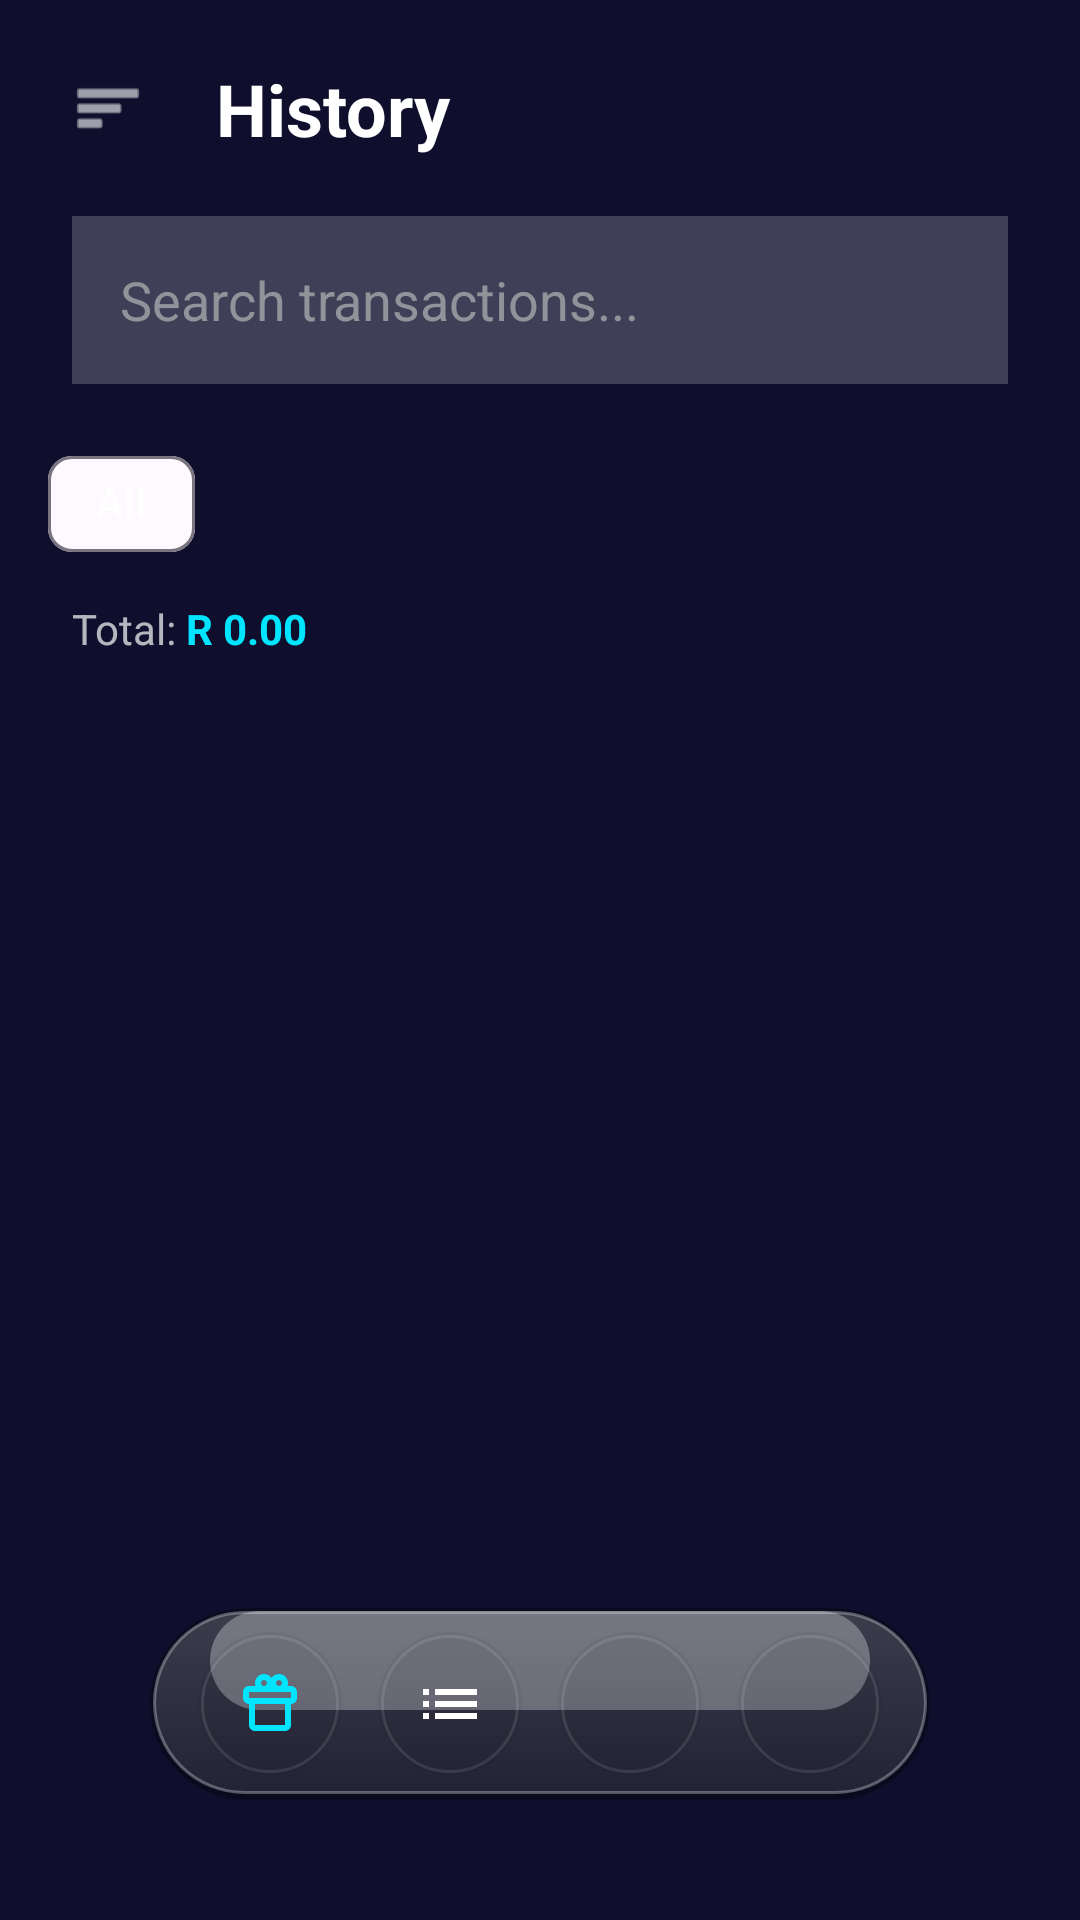

Screen size 1080 × 1920. Icon name, then its center in pixels as point (x, y):
gift: point (270, 1704)
Menu: point (108, 108), point (450, 1704)
